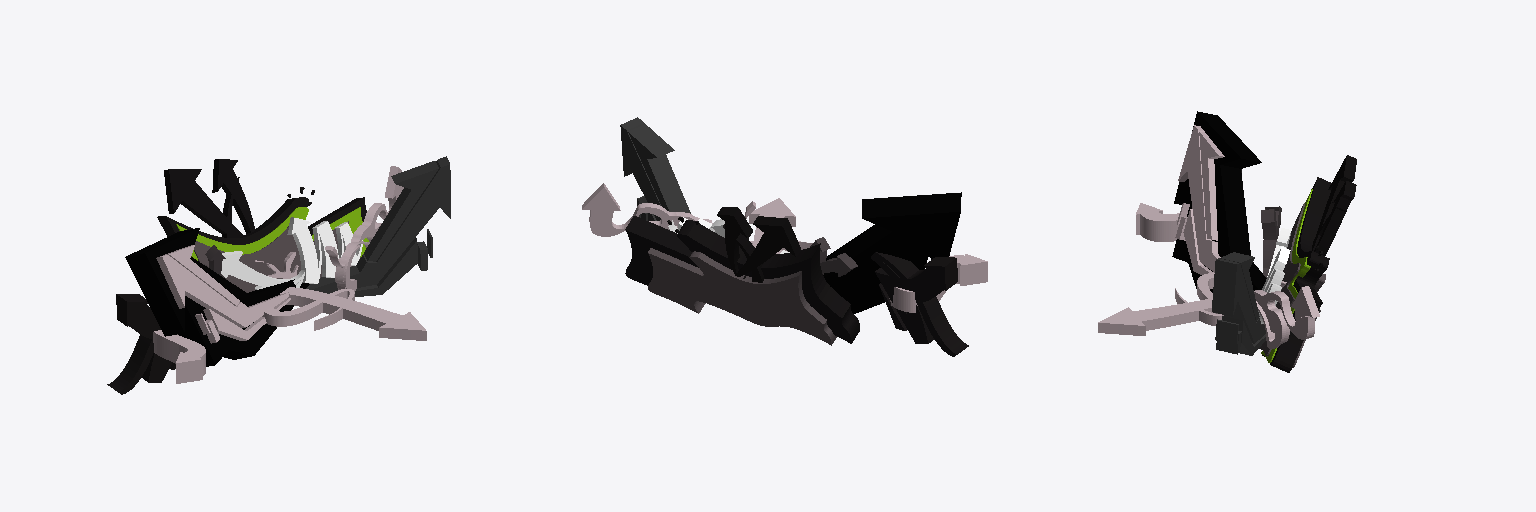
File: graffiti.obj
The picture shows the model from 3 angles: view 1: azimuth 30°, elevation 25°; view 2: azimuth 150°, elevation 25°; view 3: azimuth 270°, elevation 25°; orthographic projection.
Parts seen in each view (by area): view 1: Curve.002, Curve.005_Curve.032, Curve.001_Curve.029, Curve.012, Curve.021, Curve.014, Curve.020, Curve.019, Curve.003_Curve.030, Curve.004_Curve.031, Curve, Curve.022 (+1 smaller); view 2: Curve.005_Curve.032, Curve.004_Curve.031, Curve.003_Curve.030, Curve.014, Curve.002, Curve.021, Curve.019, Curve, Curve.012, Curve.007; view 3: Curve.005_Curve.032, Curve.001_Curve.029, Curve.002, Curve.012, Curve.003_Curve.030, Curve.019, Curve.021, Curve, Curve.007, Curve.004_Curve.031, Curve.022, Curve.020.
Part boxes in pixels (x1,y1,x2,y2): Curve.002: (306, 156, 450, 296); Curve.005_Curve.032: (125, 228, 309, 366); Curve.001_Curve.029: (156, 245, 292, 343); Curve.012: (262, 287, 426, 340); Curve.021: (164, 159, 254, 237); Curve.014: (107, 294, 175, 394); Curve.020: (287, 217, 362, 283); Curve.019: (325, 166, 403, 291); Curve.003_Curve.030: (157, 197, 366, 244); Curve.004_Curve.031: (194, 221, 360, 292); Curve: (153, 330, 205, 383); Curve.022: (176, 207, 368, 260); Curve.005_Curve.032: (823, 192, 961, 313); Curve.004_Curve.031: (648, 248, 836, 345); Curve.003_Curve.030: (625, 216, 859, 343); Curve.014: (871, 252, 968, 356); Curve.002: (620, 117, 690, 220); Curve.021: (717, 207, 800, 282); Curve.019: (582, 183, 755, 236); Curve: (889, 254, 987, 312); Curve.012: (749, 198, 812, 253); Curve.007: (810, 237, 857, 276); Curve.005_Curve.032: (1172, 111, 1266, 292); Curve.001_Curve.029: (1175, 125, 1224, 274); Curve.002: (1212, 252, 1265, 355); Curve.012: (1098, 273, 1223, 335); Curve.003_Curve.030: (1262, 177, 1331, 372); Curve.019: (1217, 257, 1319, 348); Curve.021: (1312, 155, 1356, 255); Curve: (1136, 203, 1179, 241); Curve.007: (1261, 206, 1281, 277); Curve.004_Curve.031: (1259, 203, 1325, 367); Curve.022: (1261, 189, 1312, 362); Curve.020: (1258, 247, 1290, 323).
Size of the model in its own units: 8.32 by 3.54 by 7.71.